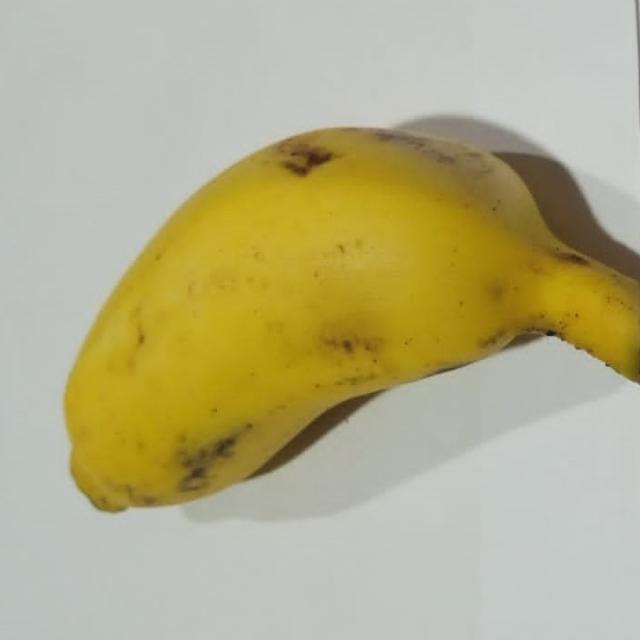banana: (66, 129, 639, 510)
